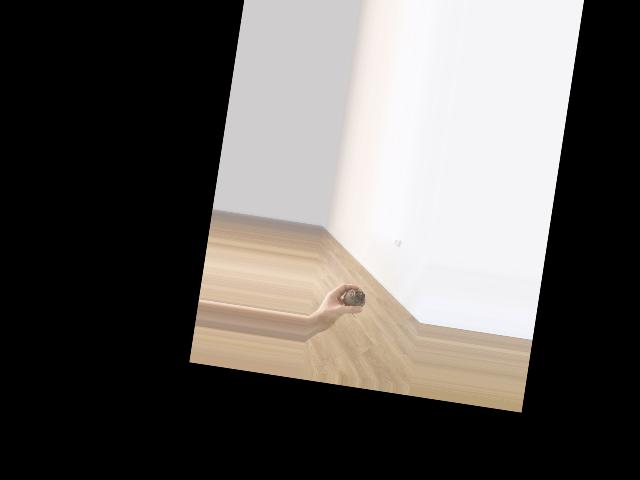beet: (341, 286, 367, 318)
